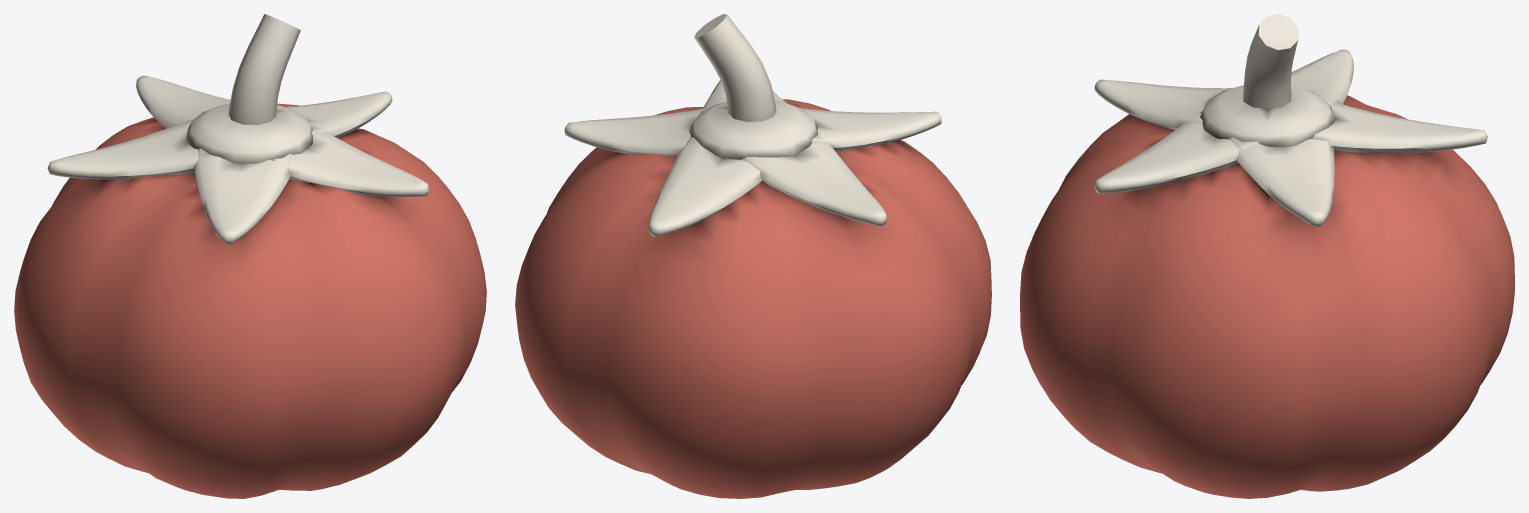
Rendered from food_tomato.glb.
3 views of the same model, side by side, from view 1: azimuth 30°, elevation 25°; view 2: azimuth 150°, elevation 25°; view 3: azimuth 270°, elevation 25° (orthographic). The views are drawn at different scales.
Parts seen in each view (by area): view 1: PART; view 2: PART; view 3: PART.
Boxes of the visible parts, bbox=[...] form: PART: bbox=[14, 14, 486, 498]; PART: bbox=[515, 14, 991, 498]; PART: bbox=[1020, 14, 1514, 498].
Size of the model in its own units: 0.1461 by 0.1512 by 0.1454.
